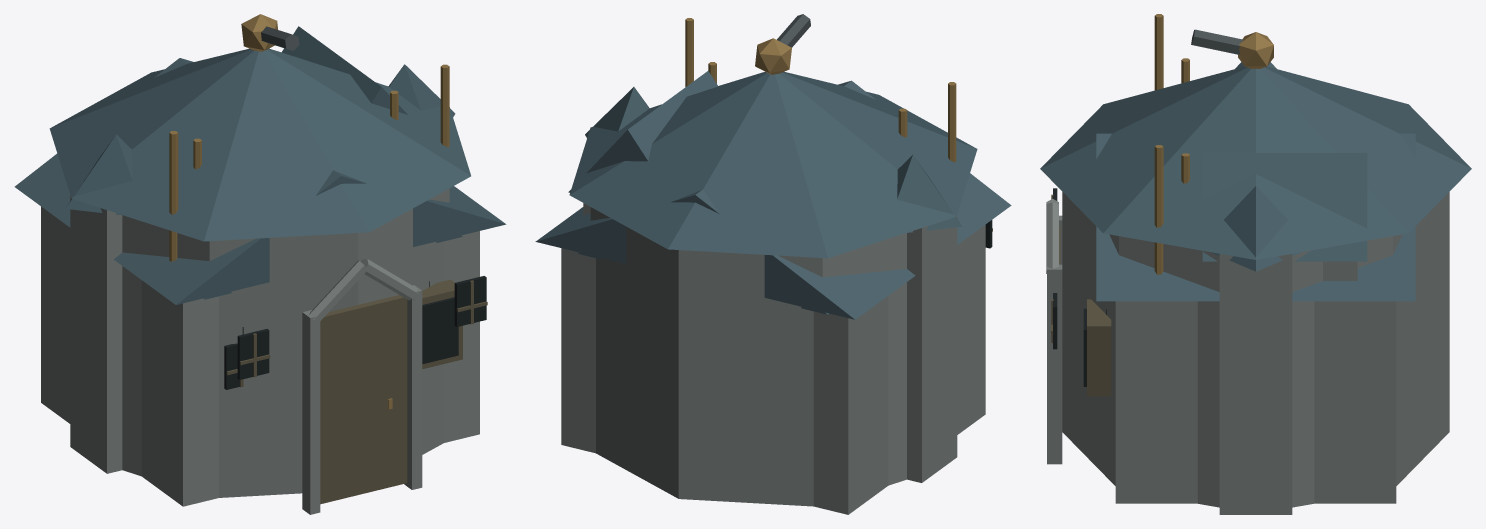
The model's file is seekers.glb.
3 renders of one model, left to right at view 1: azimuth 30°, elevation 25°; view 2: azimuth 150°, elevation 25°; view 3: azimuth 270°, elevation 25°, orthographic. The views are drawn at different scales.
Visible parts, largest first — view 1: VIL_SEEKERS_CHAPEL, VIL_SEEKERS_WORKSHOP, VIL_SEEKERS_GATE, VIL_SEEKERS_HOUSE_B; view 2: VIL_SEEKERS_CHAPEL, VIL_SEEKERS_WORKSHOP, VIL_SEEKERS_GATE, VIL_SEEKERS_HOUSE_B; view 3: VIL_SEEKERS_CHAPEL, VIL_SEEKERS_WORKSHOP, VIL_SEEKERS_GATE, VIL_SEEKERS_HOUSE_B, VIL_SEEKERS_HOUSE_A.
Boxes of the visible parts, bbox=[...] form: VIL_SEEKERS_CHAPEL: bbox=[49, 14, 487, 514]; VIL_SEEKERS_WORKSHOP: bbox=[14, 58, 506, 506]; VIL_SEEKERS_GATE: bbox=[65, 64, 455, 473]; VIL_SEEKERS_HOUSE_B: bbox=[203, 26, 462, 299]; VIL_SEEKERS_CHAPEL: bbox=[569, 14, 992, 506]; VIL_SEEKERS_WORKSHOP: bbox=[535, 80, 1011, 514]; VIL_SEEKERS_GATE: bbox=[585, 87, 961, 482]; VIL_SEEKERS_HOUSE_B: bbox=[568, 71, 828, 314]; VIL_SEEKERS_CHAPEL: bbox=[1040, 14, 1471, 507]; VIL_SEEKERS_WORKSHOP: bbox=[1083, 133, 1415, 503]; VIL_SEEKERS_GATE: bbox=[1210, 62, 1301, 514]; VIL_SEEKERS_HOUSE_B: bbox=[1202, 153, 1367, 280]; VIL_SEEKERS_HOUSE_A: bbox=[1106, 58, 1189, 314].
Size of the model in its own units: 4.6 by 4.65 by 4.46.
